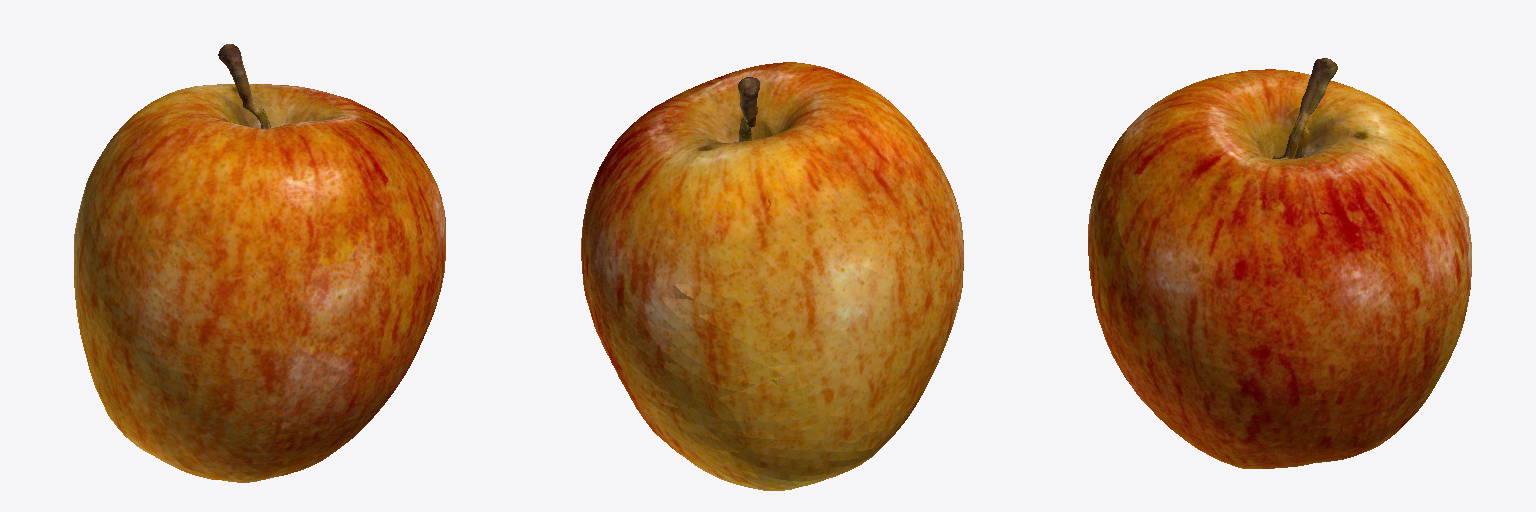
3 renders of one model, left to right at view 1: azimuth 30°, elevation 25°; view 2: azimuth 150°, elevation 25°; view 3: azimuth 270°, elevation 25°, orthographic.
Visible parts, largest first — view 1: default; view 2: default; view 3: default.
Part boxes in pixels (x1,y1,x2,y2): default: (74, 44, 445, 482); default: (581, 62, 963, 490); default: (1088, 58, 1471, 468).
Bounding box in the file's own units: 66.34 × 76.39 × 68.08.
Materials: 1 (1 with a texture image).